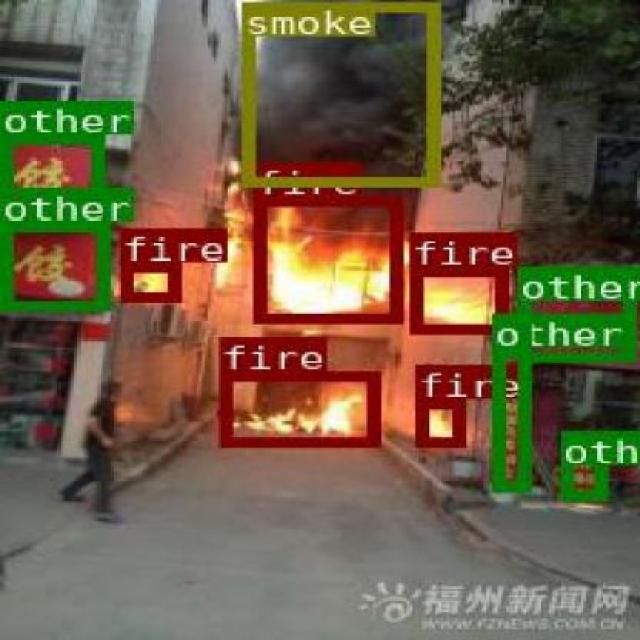fire: (252, 196, 400, 322), (219, 370, 378, 446), (408, 266, 506, 332), (119, 260, 176, 300), (413, 398, 461, 444)
smoke: (240, 2, 438, 186)
